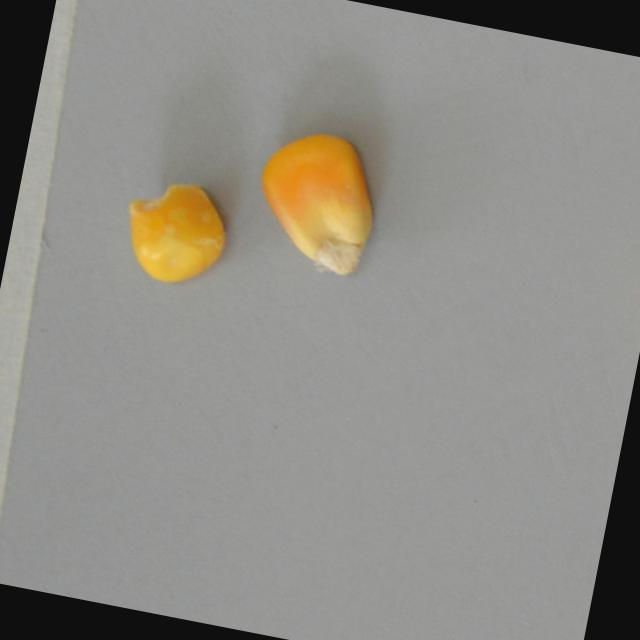entero: (245, 120, 392, 281)
pelicula: (112, 169, 240, 294)
